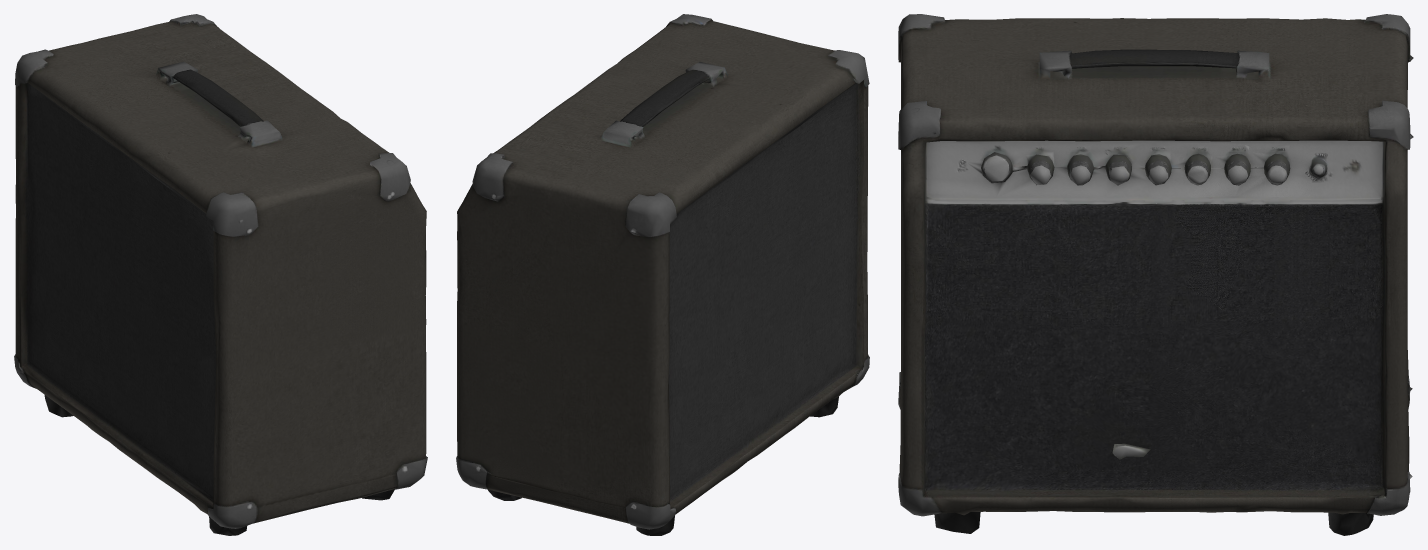
The model's file is guitar_amplifier_3d_model.fbx.
The picture shows the model from 3 angles, left to right: view 1: azimuth 30°, elevation 25°; view 2: azimuth 150°, elevation 25°; view 3: azimuth 270°, elevation 25°; orthographic projection. The views are drawn at different scales.
Visible parts, largest first — view 1: tripo_node_7677a80b; view 2: tripo_node_7677a80b; view 3: tripo_node_7677a80b.
Boxes of the visible parts, x1,y1,x2,y2 form: tripo_node_7677a80b: (14, 14, 427, 535); tripo_node_7677a80b: (456, 14, 869, 535); tripo_node_7677a80b: (898, 14, 1413, 535).
Size of the model in its own units: 0.5575 by 0.8938 by 0.9737.
